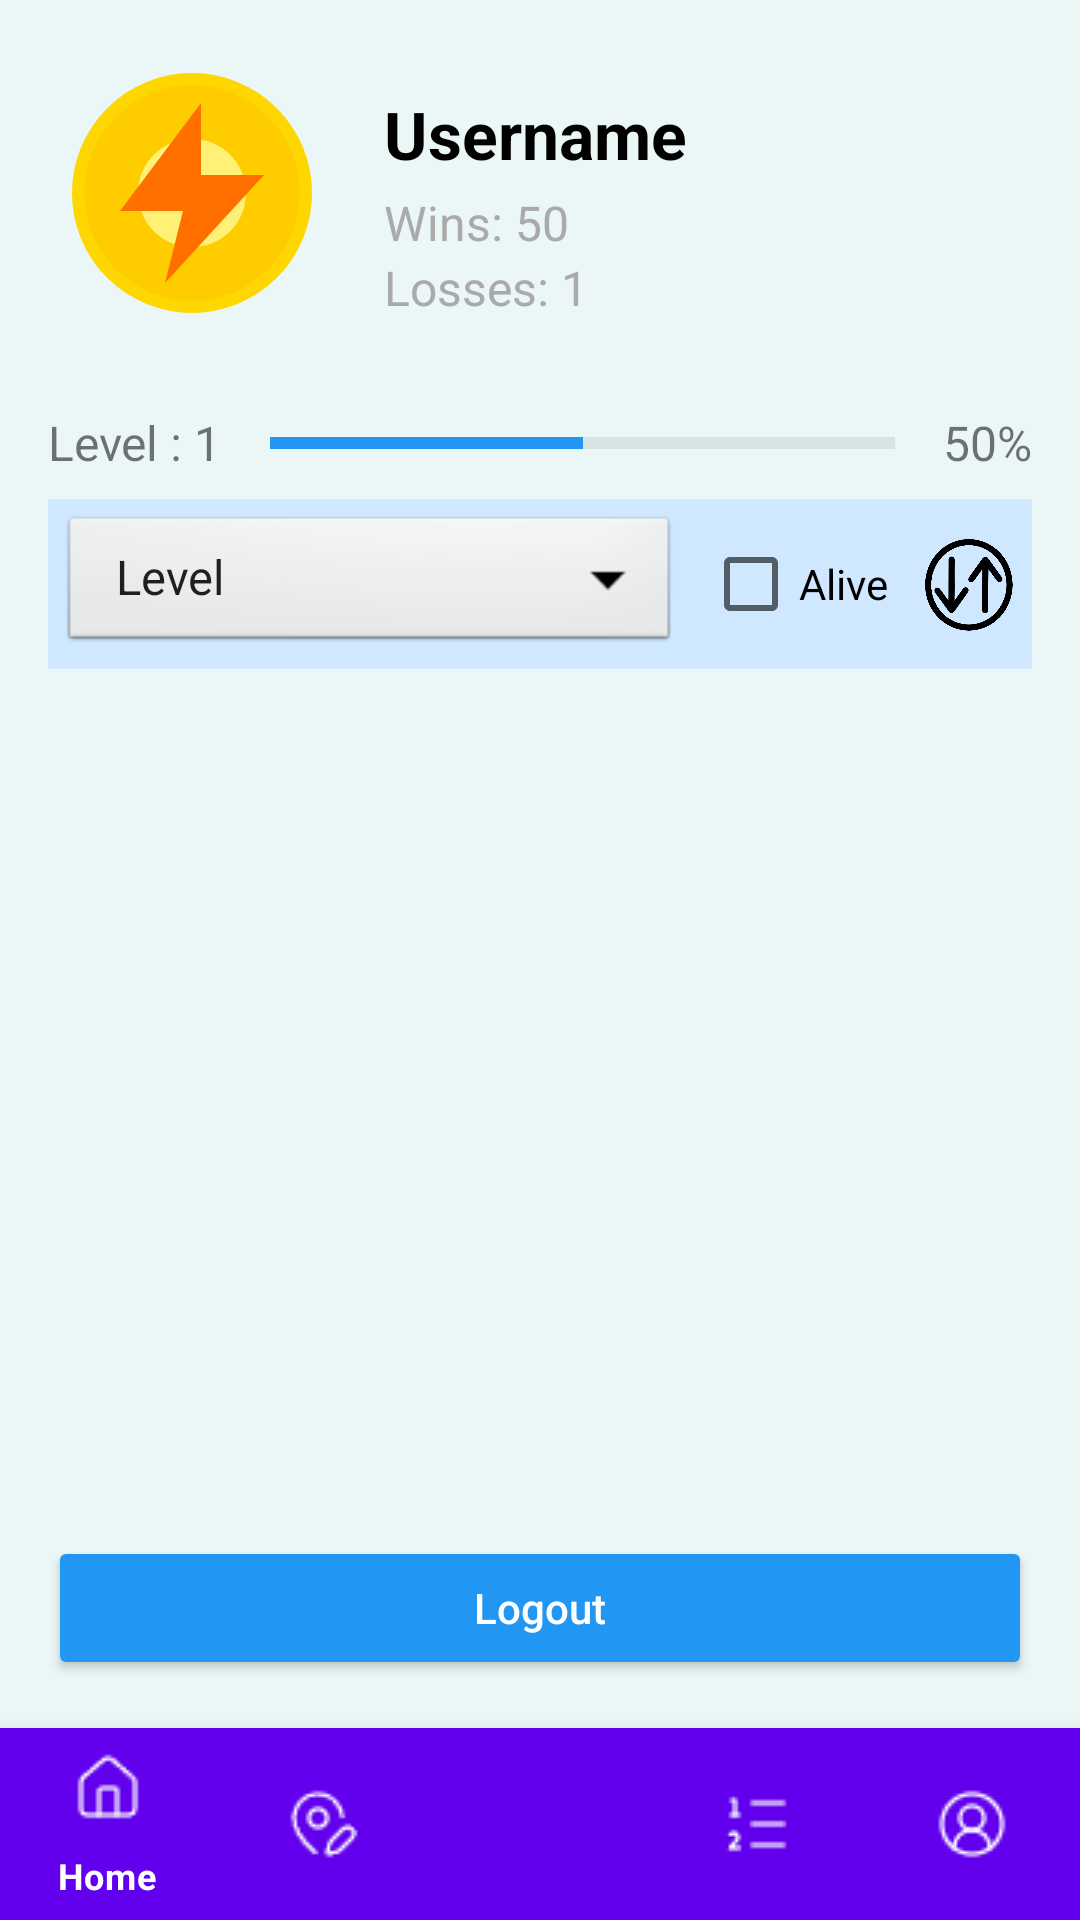

Icon click points for this 1080 x 1920 phone screenshot, format (x=x, y=y):
Toggle Sort Order: (x=969, y=585)
